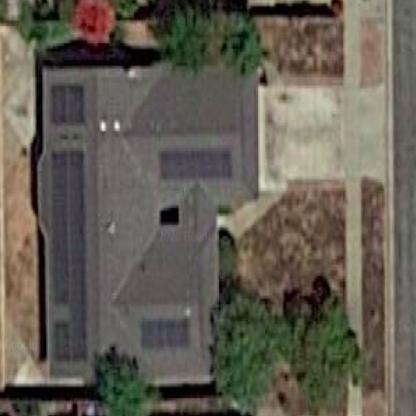solar_panel: (44, 148, 100, 372), (149, 141, 240, 188), (132, 314, 201, 357), (47, 76, 92, 134)
